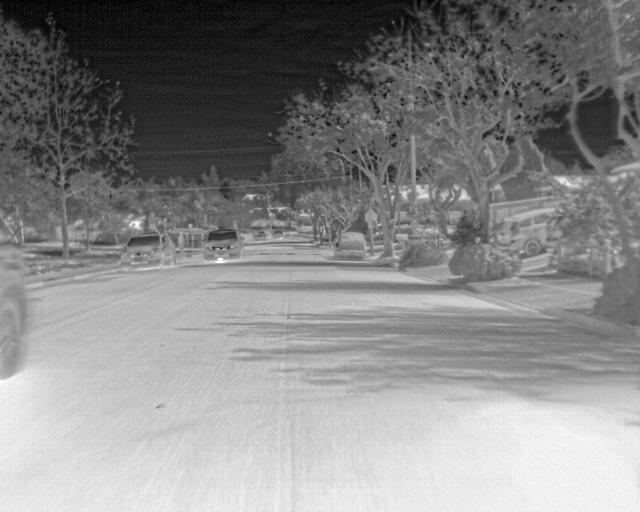car: (0, 241, 31, 381), (499, 206, 553, 257), (121, 233, 176, 270), (203, 227, 242, 260), (329, 229, 367, 262), (251, 229, 267, 241), (273, 229, 287, 241)
